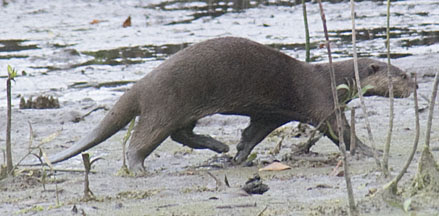otter: (17, 31, 426, 184)
